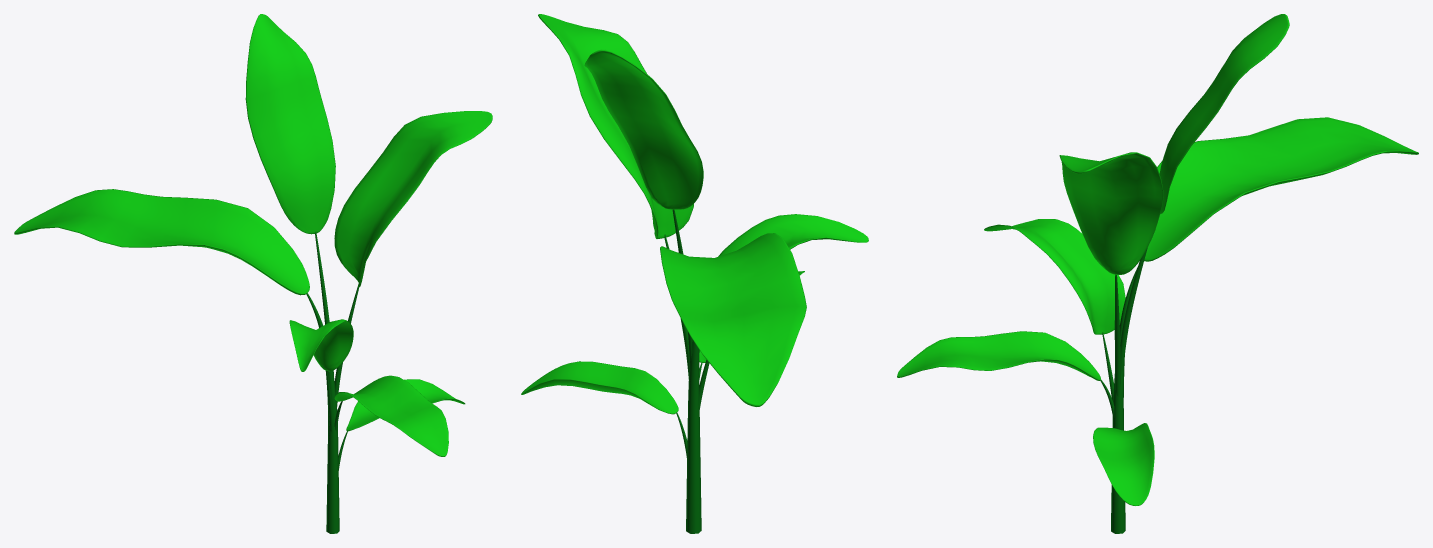
The model's file is Banana plant w_o texture.fbx.
3 renders of one model, left to right at view 1: azimuth 30°, elevation 25°; view 2: azimuth 150°, elevation 25°; view 3: azimuth 270°, elevation 25°, orthographic. The views are drawn at different scales.
Visible parts, largest first — view 1: Plane, Plane.001, Plane.004, Plane.003, NurbsPath.002, Plane.005, Plane.002; view 2: Plane.001, Plane, Plane.004, Plane.002, NurbsPath.002, Plane.005; view 3: Plane.001, Plane.004, Plane.003, Plane.005, Plane, Plane.002, NurbsPath.002.
Boxes of the visible parts, box(x1,y1,x2,y2) form: Plane: box(245, 14, 335, 234); Plane.001: box(14, 189, 309, 295); Plane.004: box(334, 111, 492, 286); Plane.003: box(334, 375, 448, 456); NurbsPath.002: box(306, 231, 359, 533); Plane.005: box(289, 319, 353, 371); Plane.002: box(346, 379, 465, 431); Plane.001: box(660, 233, 806, 406); Plane: box(584, 49, 703, 209); Plane.004: box(538, 14, 693, 238); Plane.002: box(521, 361, 678, 414); NurbsPath.002: box(664, 209, 709, 533); Plane.005: box(718, 214, 868, 256); Plane.001: box(1144, 117, 1418, 261); Plane.004: box(1059, 152, 1163, 274); Plane.003: box(897, 331, 1100, 380); Plane.005: box(984, 219, 1125, 334); Plane: box(1159, 14, 1289, 214); Plane.002: box(1093, 423, 1154, 505); NurbsPath.002: box(1100, 248, 1147, 533).
Size of the model in its own units: 217 by 285 by 261.
